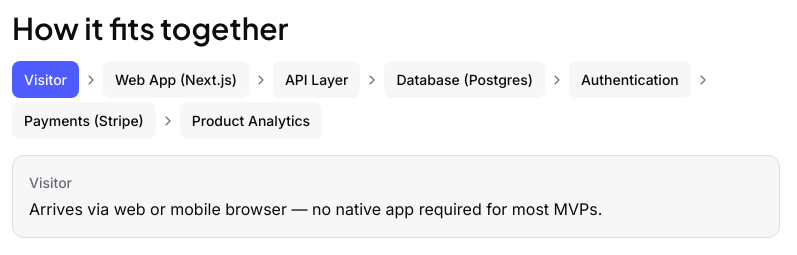
it: ArchitectureExplorer › shows another node's description on click and tracks the selection
Click the button "Web App (Next.js)". click: (176, 80)
box: x1=103 y1=61 x2=249 y2=98
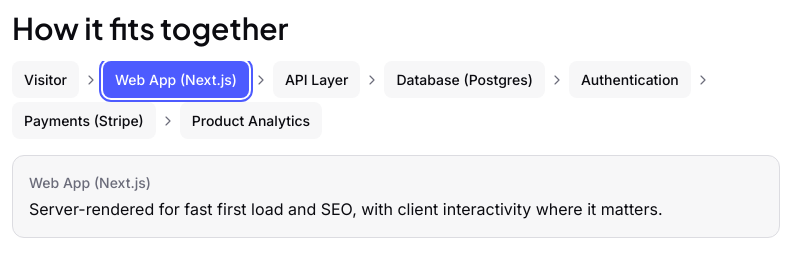
Expected: the text "Server-rendered for fast first load and SEO, with client interactivity where it matters." is shown, x1=29 y1=199 x2=662 y2=219
